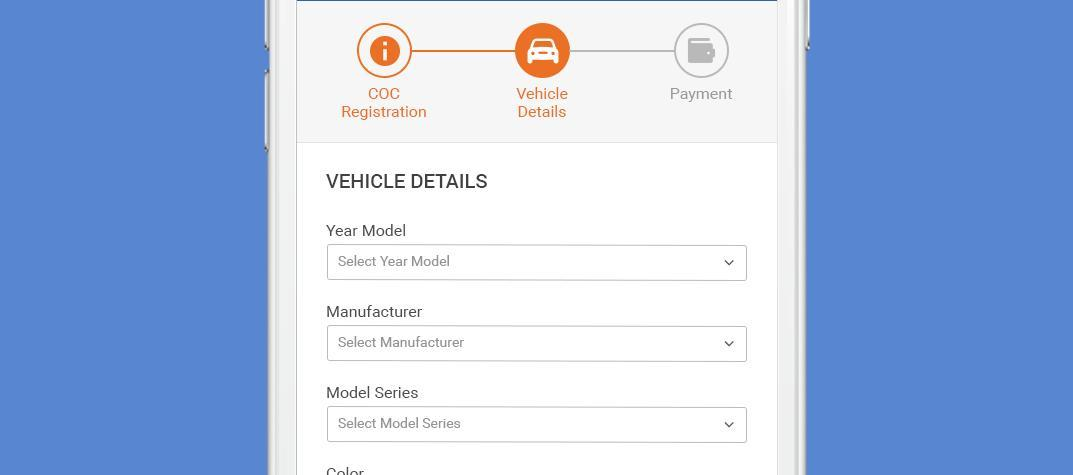dropdown: (326, 407, 748, 445), (329, 327, 749, 363), (327, 245, 747, 280)
icon: (681, 33, 722, 69), (526, 35, 564, 69), (367, 35, 403, 68)
label: (338, 82, 435, 126), (318, 169, 503, 192), (498, 81, 588, 125), (320, 383, 431, 405), (323, 302, 432, 321), (325, 220, 414, 242), (661, 85, 741, 105)
